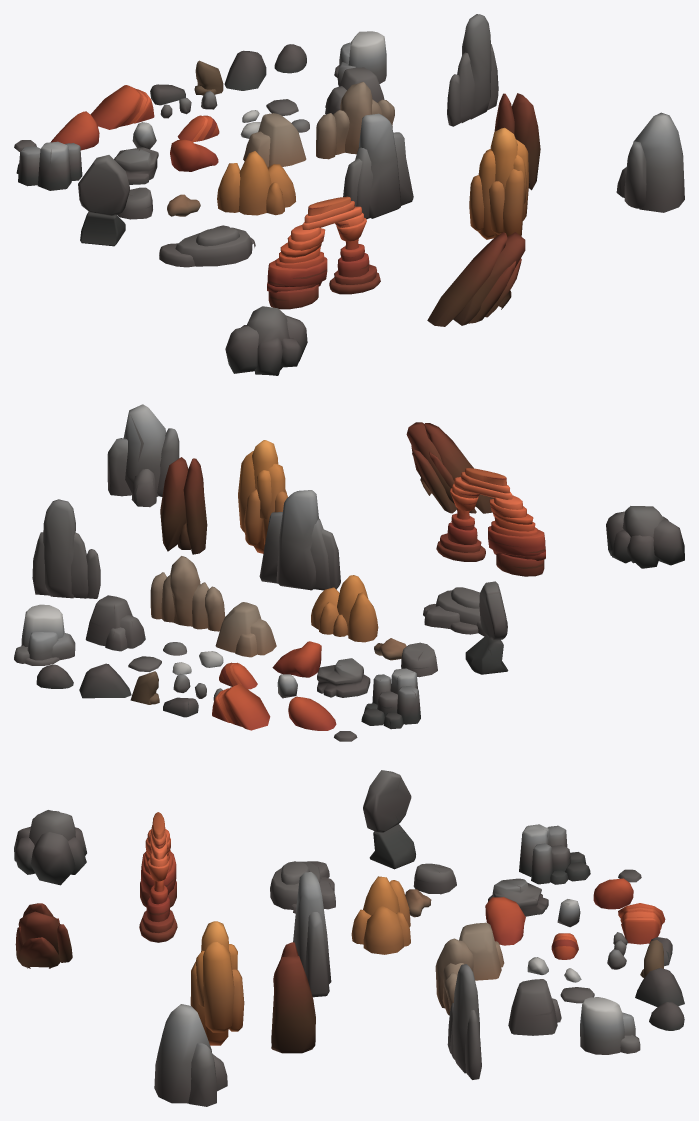
The model's file is Rocks_001.fbx.
The picture shows the model from 3 angles, top to bottom: view 1: azimuth 30°, elevation 25°; view 2: azimuth 150°, elevation 25°; view 3: azimuth 270°, elevation 25°; orthographic projection. The views are drawn at different scales.
Parts seen in each view (by area): view 1: Rock_Arch, Rock_Formation.009, Rock_Formation.007, Rock_Formation.014, Rock_Formation.011, Rock_Formation.015, Rock_Formation.008, Rock_Formation.016, Rock_Formation.013, Rock_Formation.003, Rock_Formation.004, Rock_Formation.012 (+15 smaller); view 2: Rock_Arch, Rock_Formation.007, Rock_Formation.011, Rock_Formation.008, Rock_Formation.015, Rock_Formation.003, Rock_Formation.009, Rock_Formation.006, Rock_Formation.014, Rock_Formation.016, Rock_Formation.005, Rock_Formation.012 (+14 smaller); view 3: Rock_Formation.011, Rock_Formation.009, Rock_Formation.015, Rock_Formation.006, Rock_Arch, Rock_Formation.013, Rock_Formation.016, Rock_Formation.007, Rock_Formation.012, Rock_Formation.008, Rock_Formation.014, Rock_Formation.005 (+14 smaller).
Boxes of the visible parts, x1,y1,x2,y2 form: Rock_Arch: (267,196,380,309); Rock_Formation.009: (469,127,529,239); Rock_Formation.007: (343,113,413,219); Rock_Formation.014: (427,232,525,326); Rock_Formation.011: (616,112,684,212); Rock_Formation.015: (225,306,307,375); Rock_Formation.008: (447,14,498,126); Rock_Formation.016: (217,151,295,215); Rock_Formation.013: (78,155,129,246); Rock_Formation.003: (316,82,394,159); Rock_Formation.004: (159,225,255,267); Rock_Formation.012: (16,141,82,190); Rock_Arch: (436,468,545,576); Rock_Formation.007: (259,490,340,590); Rock_Formation.011: (107,404,179,507); Rock_Formation.008: (32,499,100,598); Rock_Formation.015: (606,506,684,568); Rock_Formation.003: (150,556,225,631); Rock_Formation.009: (238,440,287,553); Rock_Formation.006: (160,457,207,554); Rock_Formation.014: (406,422,493,513); Rock_Formation.016: (311,575,378,642); Rock_Formation.005: (14,604,75,665); Rock_Formation.012: (361,668,420,729); Rock_Formation.011: (154,1004,227,1106); Rock_Formation.009: (190,921,244,1045); Rock_Formation.015: (14,810,86,885); Rock_Formation.006: (271,942,315,1053); Rock_Arch: (139,812,177,942); Rock_Formation.013: (363,770,415,869); Rock_Formation.016: (351,876,410,954); Rock_Formation.007: (293,872,331,997); Rock_Formation.012: (519,824,590,884); Rock_Formation.008: (447,964,481,1079); Rock_Formation.014: (15,903,72,968); Rock_Formation.005: (580,997,640,1054).
Bounding box in the file's own units: 2525 × 547 × 2675.
